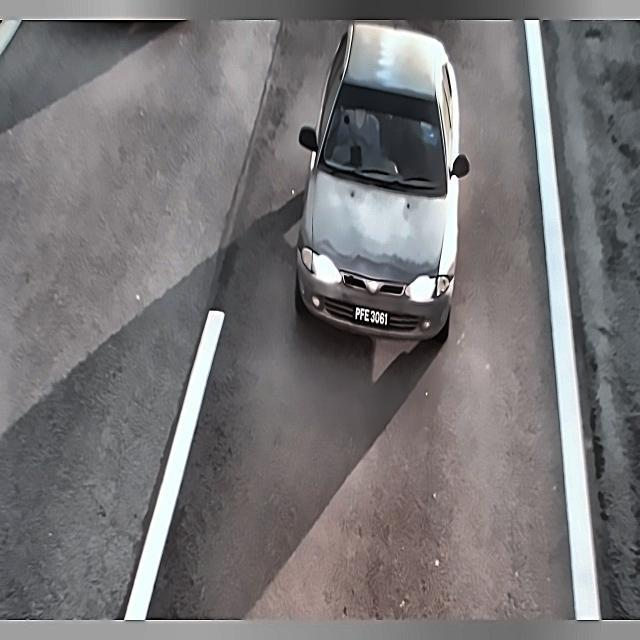car: (352, 298, 392, 338)
